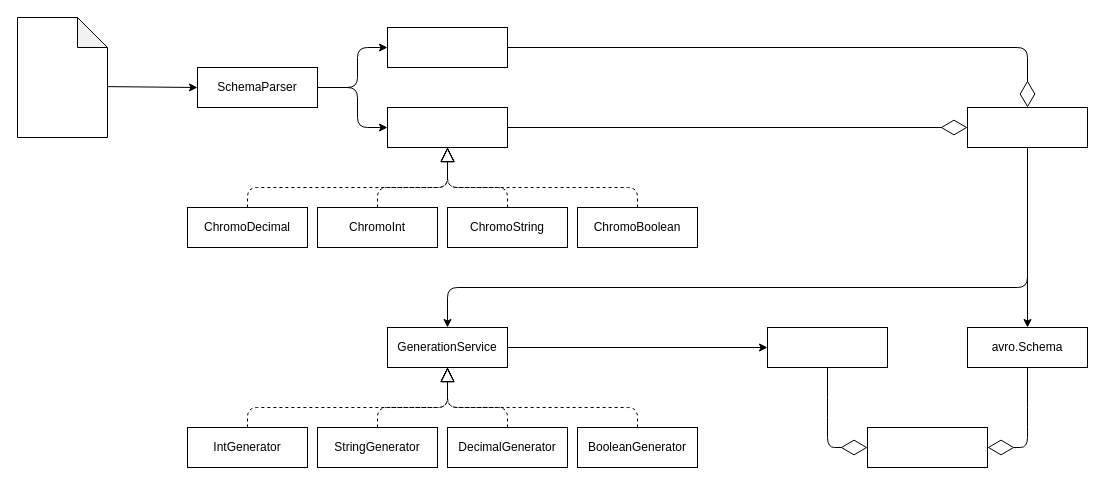
This 1105x491 diagram has some shape labels left out. The shapes that lost their labels are listed below. From the top down, each one's box as (x1, y1, x2, y2) in pixels, then its label:
(386, 26, 508, 68): GenerationRule
(16, 16, 108, 138): Schema and Rules Definition File
(386, 106, 508, 148): ChromoField
(966, 106, 1088, 148): ChromoSchema
(766, 326, 888, 368): avro.GenericRecord
(866, 426, 988, 468): Dataset
